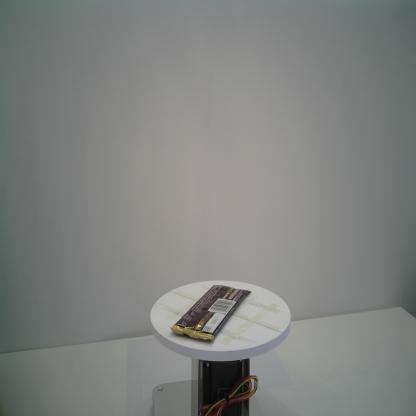Chocolate: (167, 282, 254, 345)
